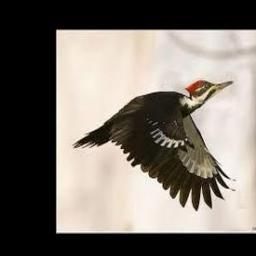Woodpecker: (73, 80, 236, 211)
